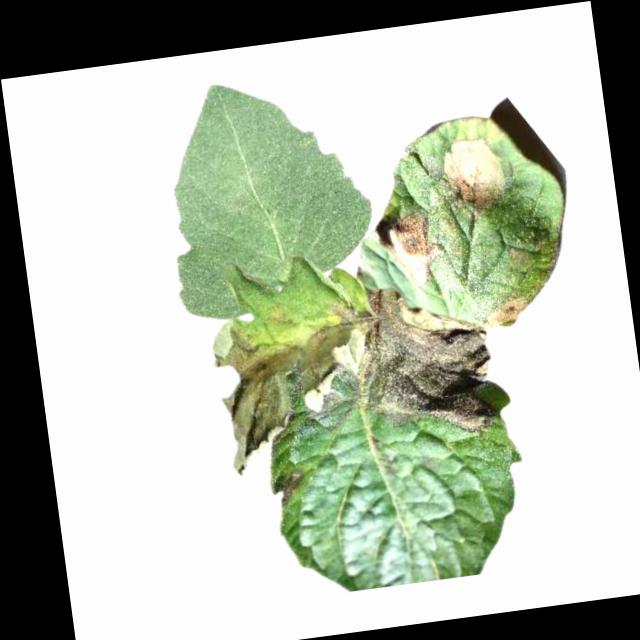Late_blight: (207, 301, 371, 479), (353, 275, 502, 446), (433, 131, 521, 222), (377, 207, 448, 292), (485, 293, 533, 327), (271, 470, 309, 511)
